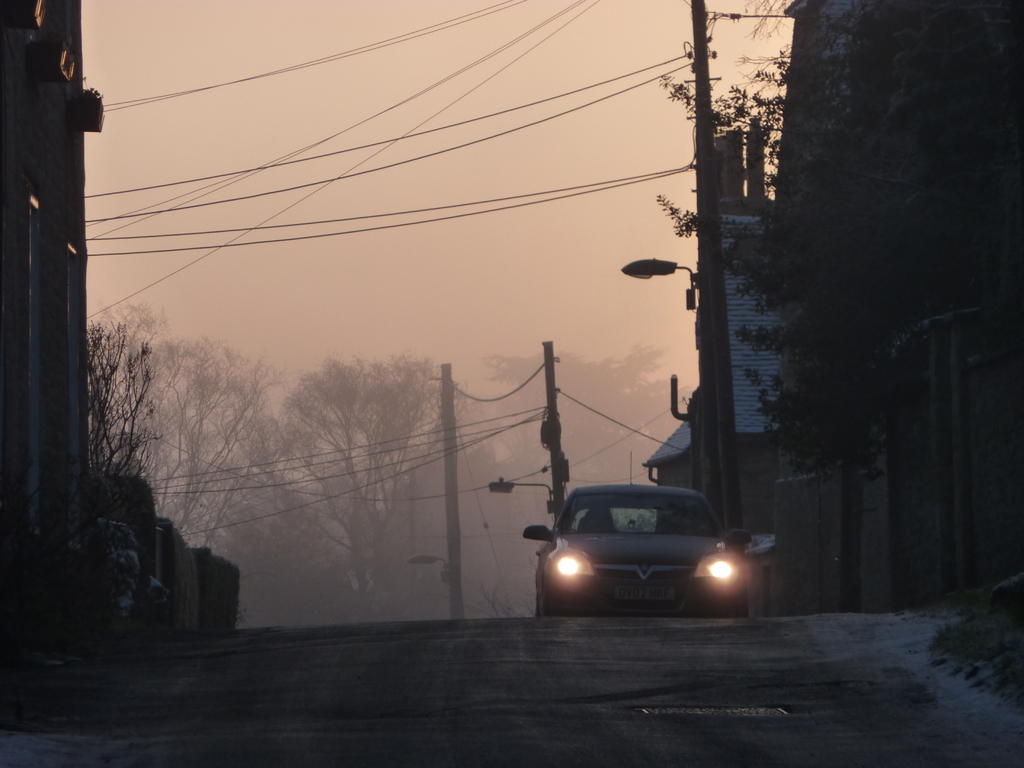Car: (508, 488, 737, 626)
